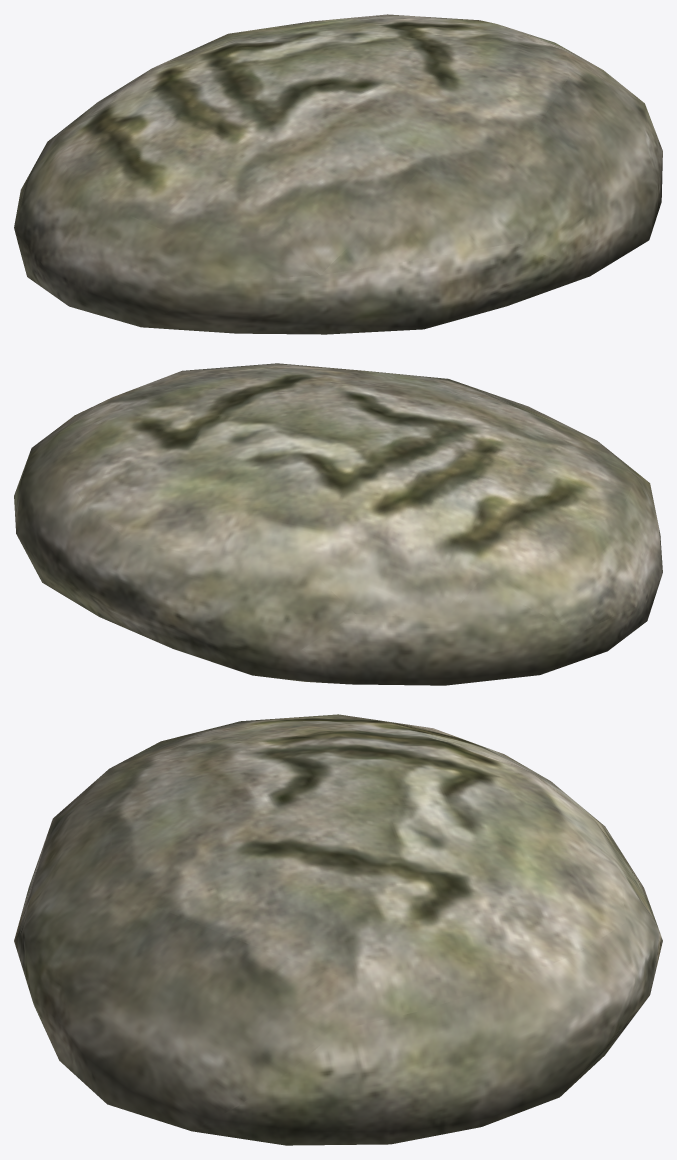
The model's file is item_mm9_10239.glb.
3 views of the same model, one above another, from view 1: azimuth 30°, elevation 25°; view 2: azimuth 150°, elevation 25°; view 3: azimuth 270°, elevation 25° (orthographic). The views are drawn at different scales.
Visible parts, largest first — view 1: d10239; view 2: d10239; view 3: d10239.
Part boxes in pixels (x1=…): d10239: x1=14, y1=14, x2=662, y2=334; d10239: x1=14, y1=363, x2=662, y2=685; d10239: x1=14, y1=714, x2=662, y2=1145.
Size of the model in its own units: 57.6 by 15.01 by 45.45.
1 material, 1 textured.
